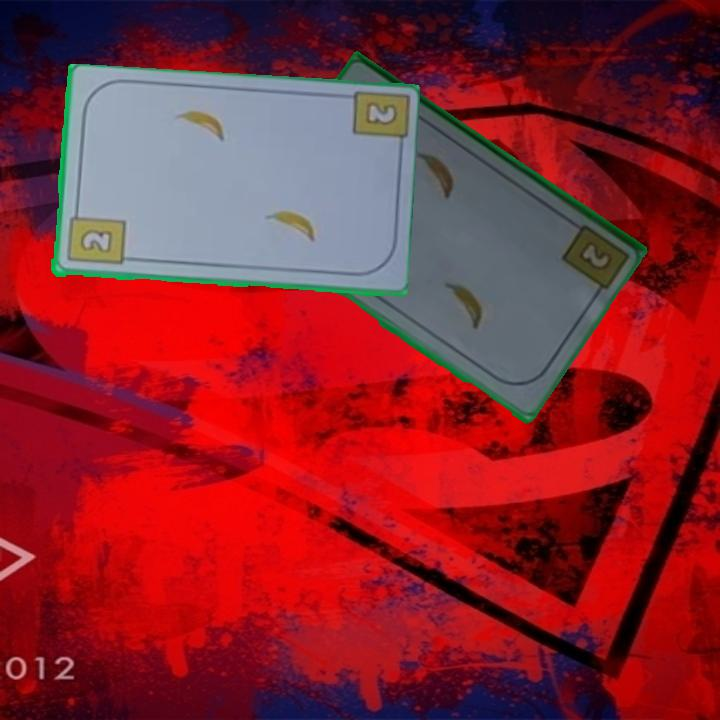2b: (63, 204, 127, 269), (574, 237, 612, 271), (364, 102, 397, 127)
